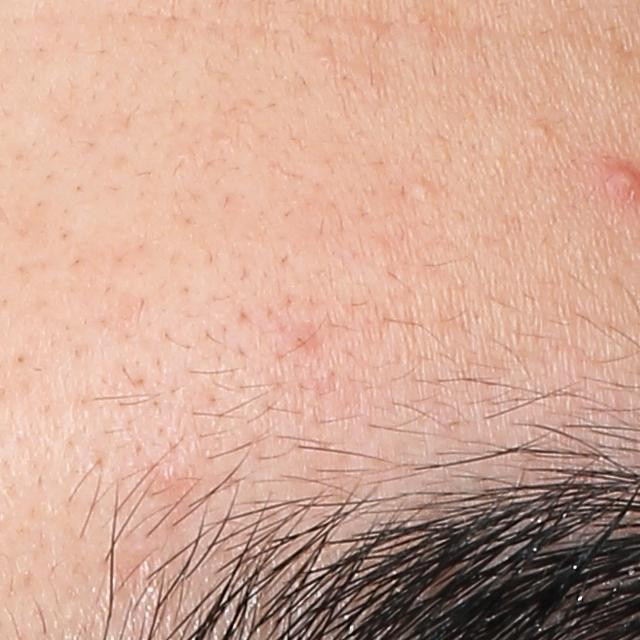comedo: (410, 177, 438, 206), (528, 122, 552, 137)
